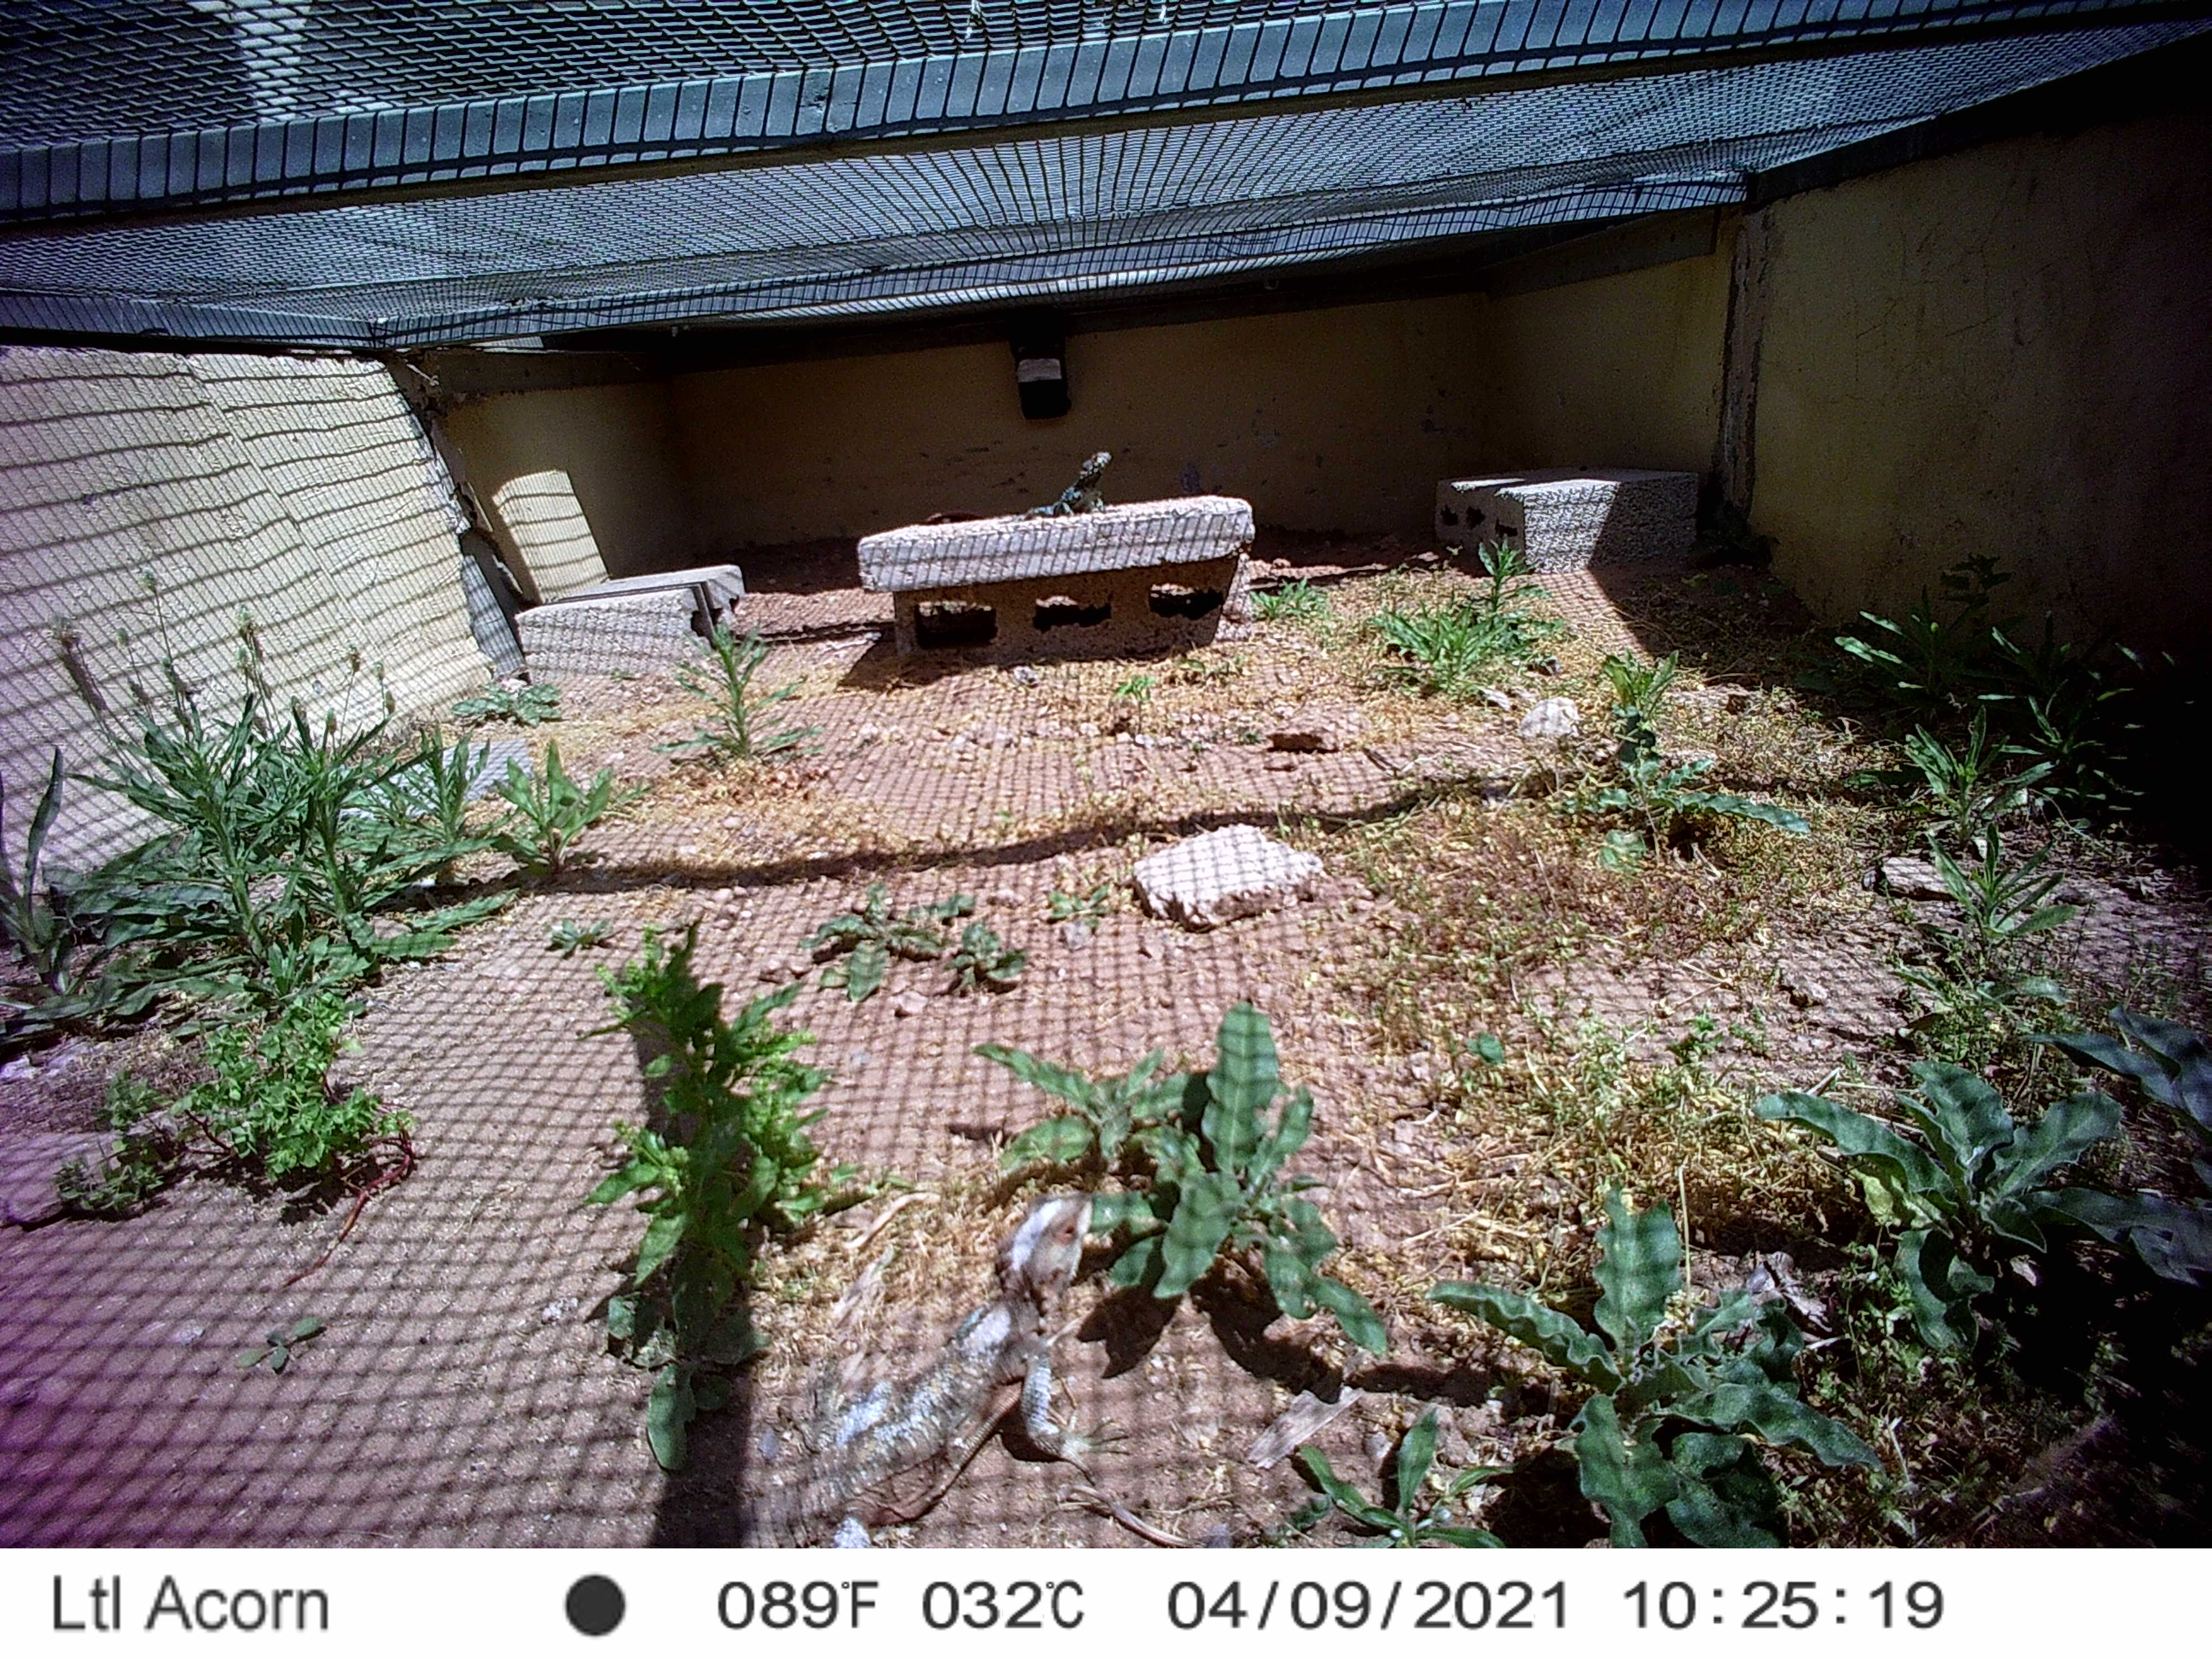lizard: (657, 1188, 1116, 1546), (1021, 446, 1113, 521)
